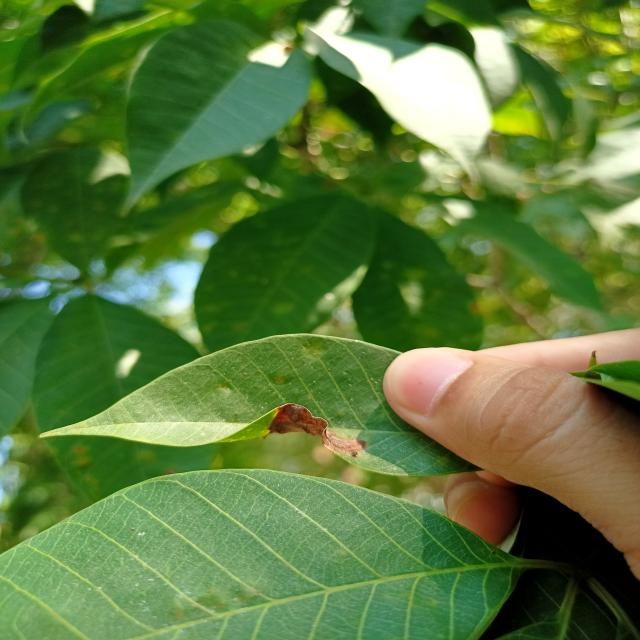Leaf-Blight: (269, 403, 367, 453)
